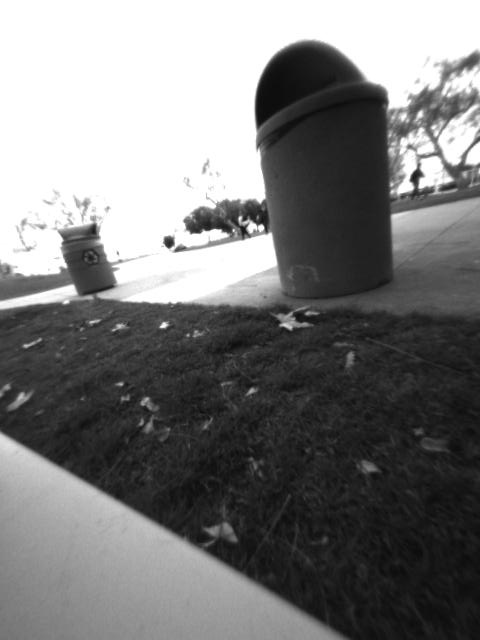trashcan: (248, 36, 401, 301)
